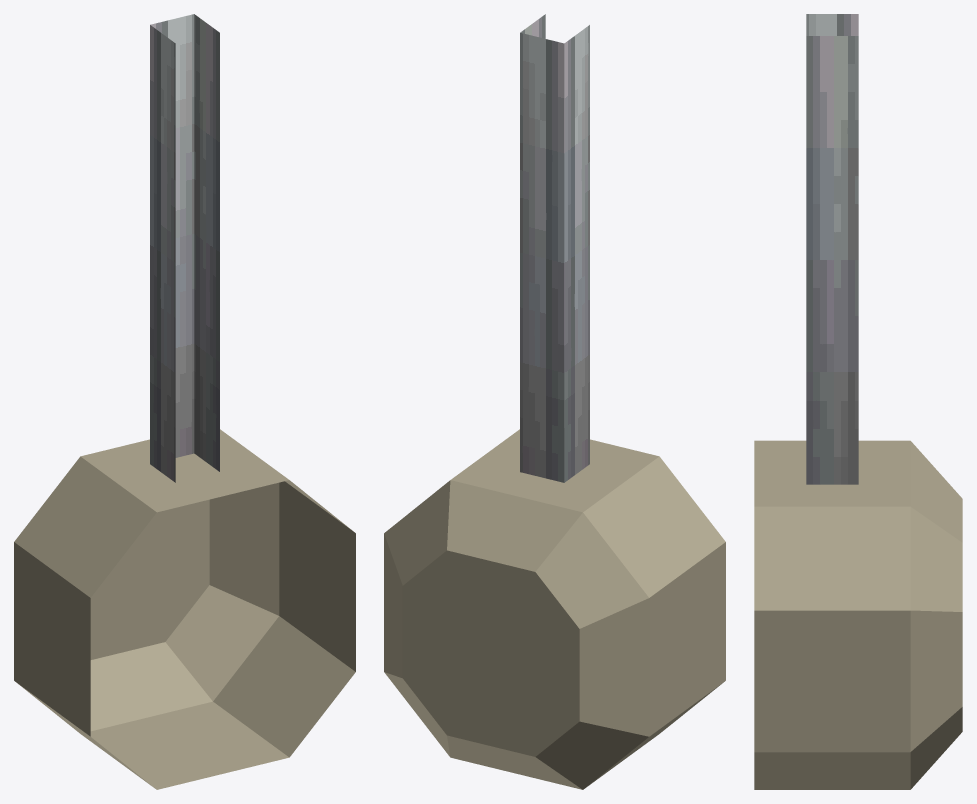
The model's file is c2_huriko.obj.
3 renders of one model, left to right at view 1: azimuth 30°, elevation 25°; view 2: azimuth 150°, elevation 25°; view 3: azimuth 270°, elevation 25°, orthographic. The views are drawn at different scales.
Visible parts, largest first — view 1: world_root; view 2: world_root; view 3: world_root.
Part boxes in pixels (x1,y1,x2,y2): world_root: (14,14,355,789); world_root: (384,14,725,789); world_root: (754,14,962,789).
Size of the model in its own units: 15 by 38.75 by 10.
2 materials, 2 textured.
